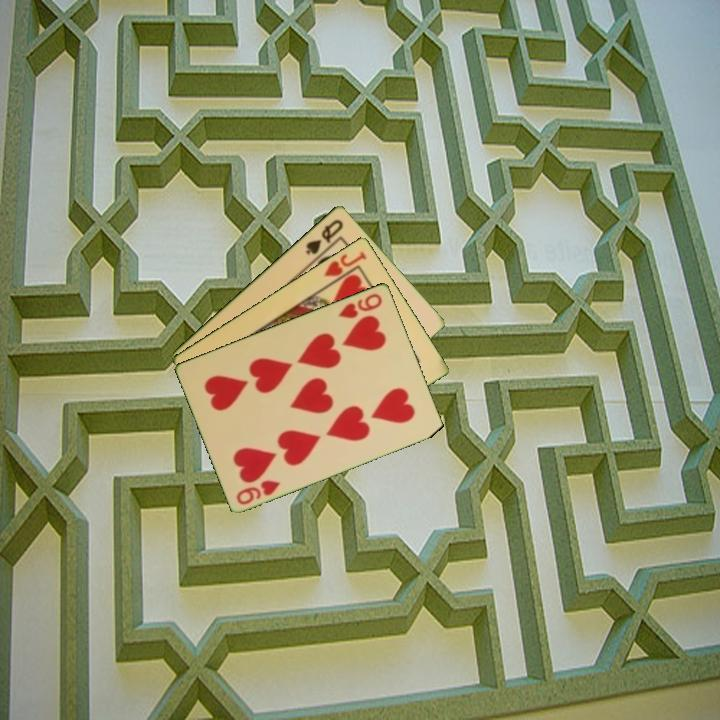9h: (335, 289, 385, 321), (233, 476, 284, 507)
Jh: (320, 247, 370, 279)
Qs: (302, 215, 346, 258)
